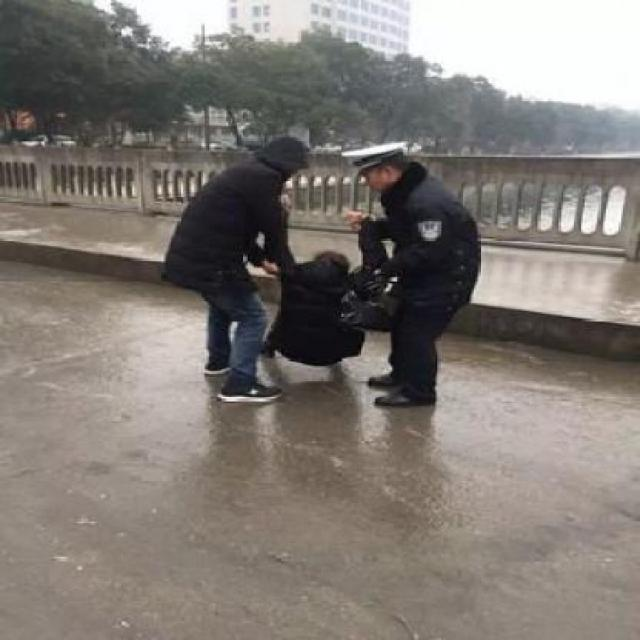fall: (238, 232, 392, 390)
